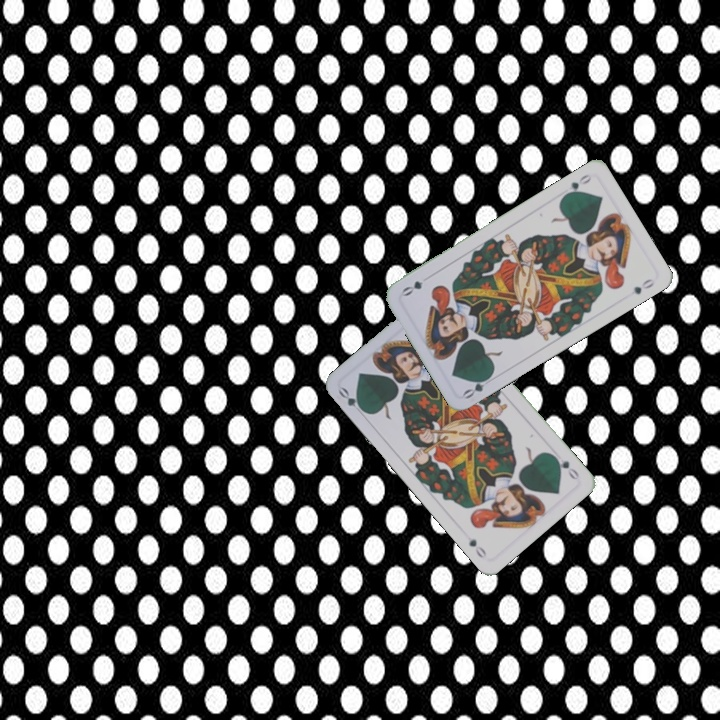GO: (334, 383, 369, 418), (459, 371, 495, 402), (549, 451, 582, 483), (559, 170, 594, 199)
